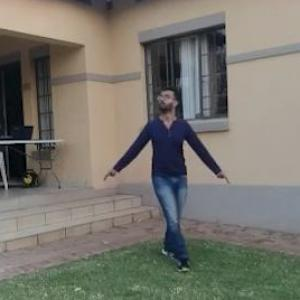land: (116, 96, 214, 251)
